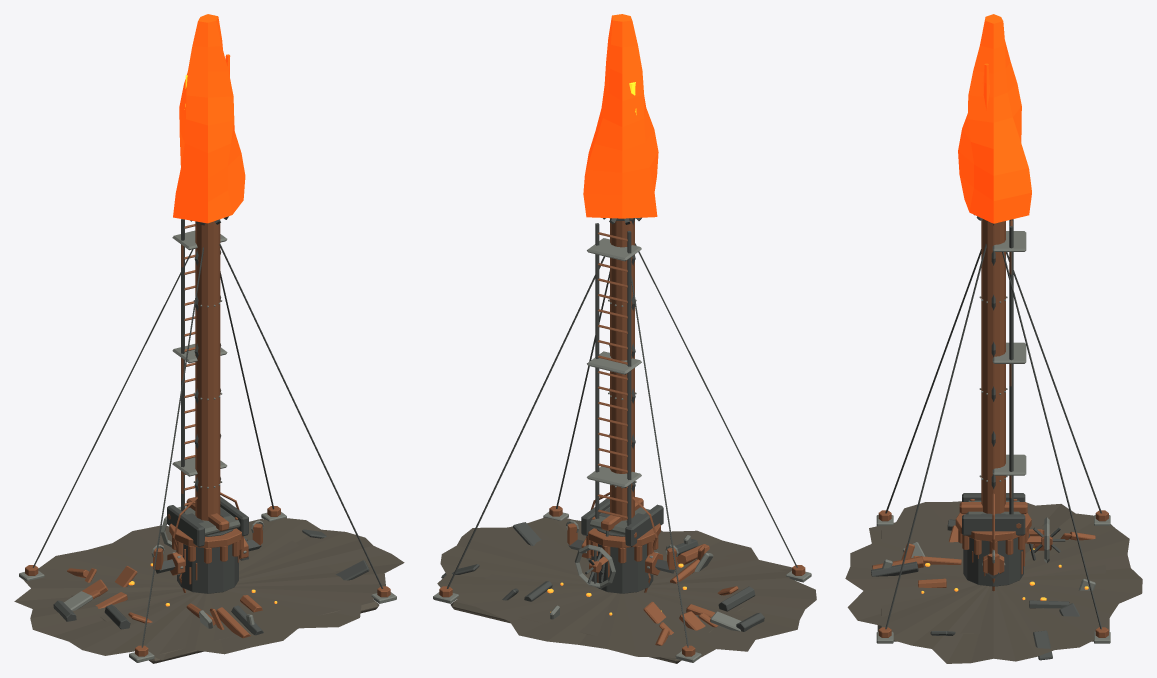
Rendered from everburn.glb.
The picture shows the model from 3 angles, left to right: view 1: azimuth 30°, elevation 25°; view 2: azimuth 150°, elevation 25°; view 3: azimuth 270°, elevation 25°; orthographic projection.
Parts seen in each view (by area): view 1: everburn-merged-shared-everburn-charred-gravel, everburn-flame-outer, everburn-merged-shared-everburn-blackened-welded-steel, everburn-flare-stack, everburn-merged-shared-everburn-layered-iron-oxide, everburn-merged-shared-everburn-ash-grey-paint, everburn-merged-everburn-capped-everburn-blackened-welded-st; view 2: everburn-merged-shared-everburn-charred-gravel, everburn-flame-outer, everburn-merged-shared-everburn-blackened-welded-steel, everburn-merged-shared-everburn-layered-iron-oxide, everburn-flare-stack, everburn-merged-shared-everburn-ash-grey-paint, everburn-merged-everburn-capped-everburn-blackened-welded-st, everburn-hand-wheel; view 3: everburn-merged-shared-everburn-charred-gravel, everburn-flame-outer, everburn-merged-shared-everburn-blackened-welded-steel, everburn-flare-stack, everburn-merged-shared-everburn-layered-iron-oxide, everburn-merged-shared-everburn-ash-grey-paint, everburn-merged-everburn-capped-everburn-blackened-welded-st, everburn-merged-everburn-capped-everburn-layered-iron-oxide.
Boxes of the visible parts, box(x1,y1,x2,y2) form: everburn-merged-shared-everburn-charred-gravel: box(14, 518, 404, 663); everburn-flame-outer: box(173, 14, 245, 223); everburn-merged-shared-everburn-blackened-welded-steel: box(32, 216, 383, 647); everburn-flare-stack: box(195, 219, 220, 520); everburn-merged-shared-everburn-layered-iron-oxide: box(25, 224, 390, 656); everburn-merged-shared-everburn-ash-grey-paint: box(19, 230, 396, 662); everburn-merged-everburn-capped-everburn-blackened-welded-st: box(167, 496, 248, 546); everburn-merged-shared-everburn-charred-gravel: box(437, 517, 816, 663); everburn-flame-outer: box(583, 14, 658, 218); everburn-merged-shared-everburn-blackened-welded-steel: box(441, 217, 797, 647); everburn-merged-shared-everburn-layered-iron-oxide: box(439, 232, 805, 656); everburn-flare-stack: box(610, 218, 634, 520); everburn-merged-shared-everburn-ash-grey-paint: box(433, 238, 811, 662); everburn-merged-everburn-capped-everburn-blackened-welded-st: box(581, 496, 663, 582); everburn-hand-wheel: box(575, 544, 615, 588); everburn-merged-shared-everburn-charred-gravel: box(845, 501, 1142, 663); everburn-flame-outer: box(958, 14, 1031, 223); everburn-merged-shared-everburn-blackened-welded-steel: box(871, 215, 1101, 660); everburn-flare-stack: box(981, 219, 1005, 513); everburn-merged-shared-everburn-layered-iron-oxide: box(872, 220, 1108, 637); everburn-merged-shared-everburn-ash-grey-paint: box(876, 231, 1110, 643); everburn-merged-everburn-capped-everburn-blackened-welded-st: box(962, 493, 1035, 560); everburn-merged-everburn-capped-everburn-layered-iron-oxide: box(959, 499, 1027, 528).
Size of the model in its own units: 8.05 by 12.93 by 6.03.
